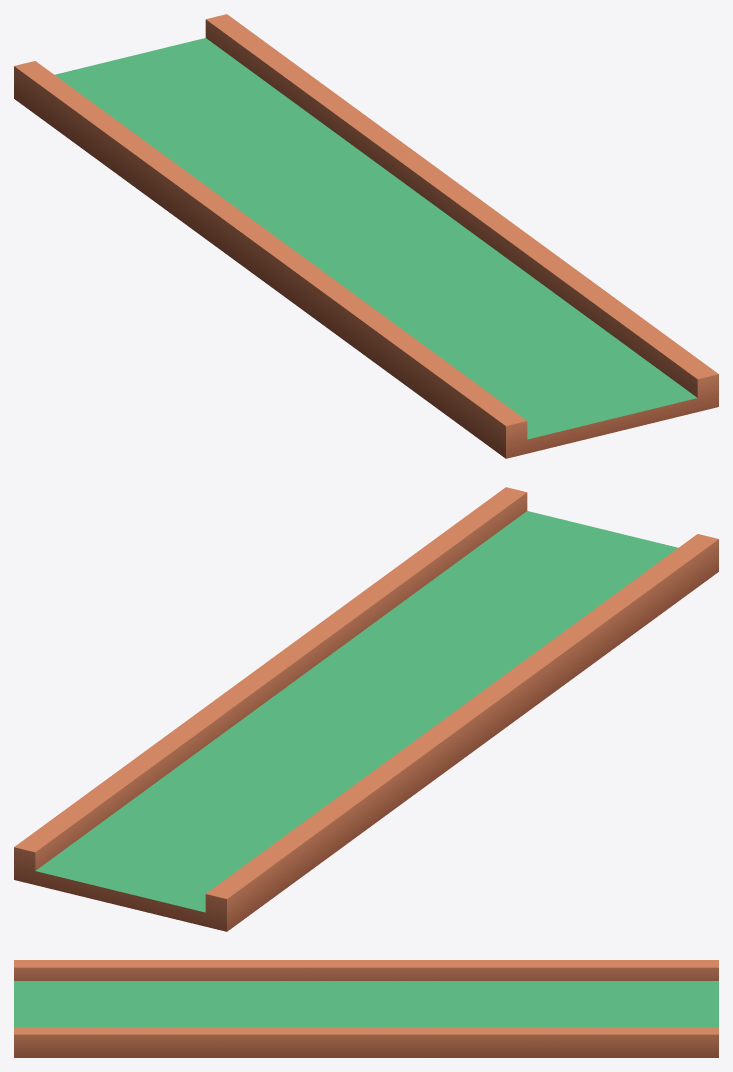
The model's file is spline-default-straight.glb.
The picture shows the model from 3 angles, top to bottom: view 1: azimuth 30°, elevation 25°; view 2: azimuth 150°, elevation 25°; view 3: azimuth 270°, elevation 25°; orthographic projection. The views are drawn at different scales.
Parts seen in each view (by area): view 1: spline-default-straight; view 2: spline-default-straight; view 3: spline-default-straight.
Boxes of the visible parts, x1,y1,x2,y2 form: spline-default-straight: (14, 14, 718, 458); spline-default-straight: (14, 487, 718, 931); spline-default-straight: (14, 960, 718, 1057).
Size of the model in its own units: 0.9998 by 0.1467 by 4.
Materials: 1 (1 with a texture image).
